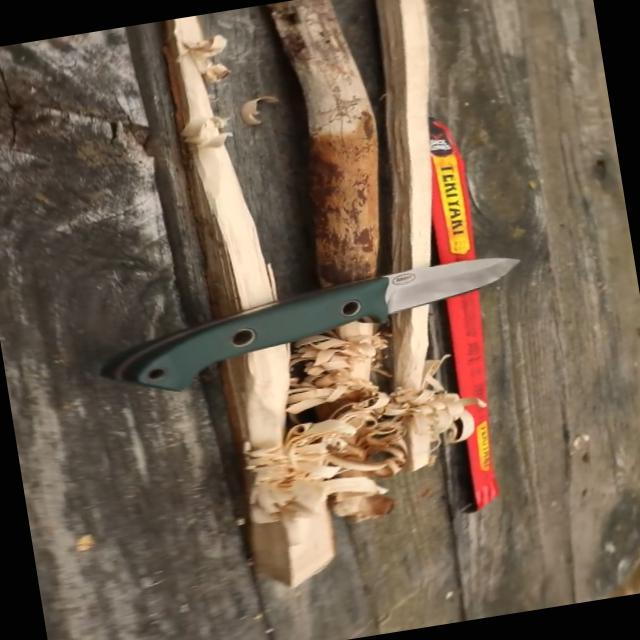knife: (296, 244, 546, 346)
